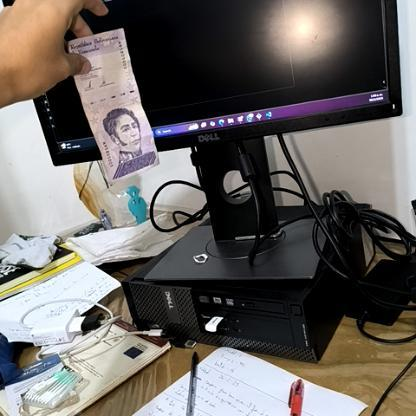ten-front-vef: (66, 26, 160, 185)
